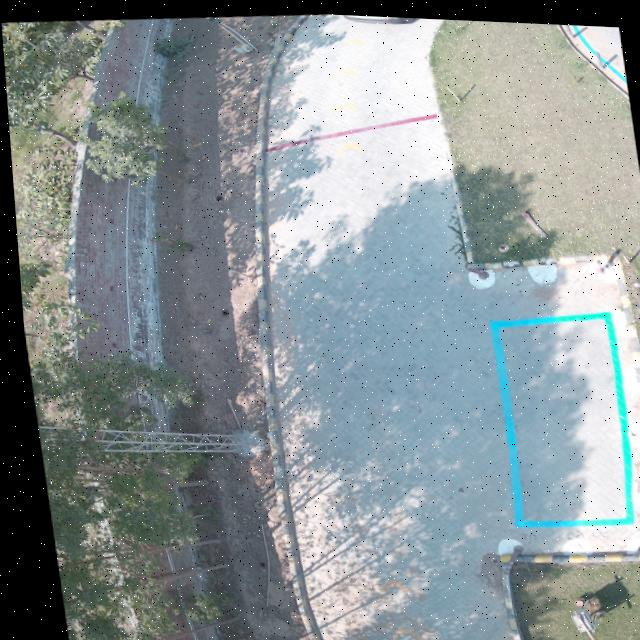car: (344, 12, 413, 20)
